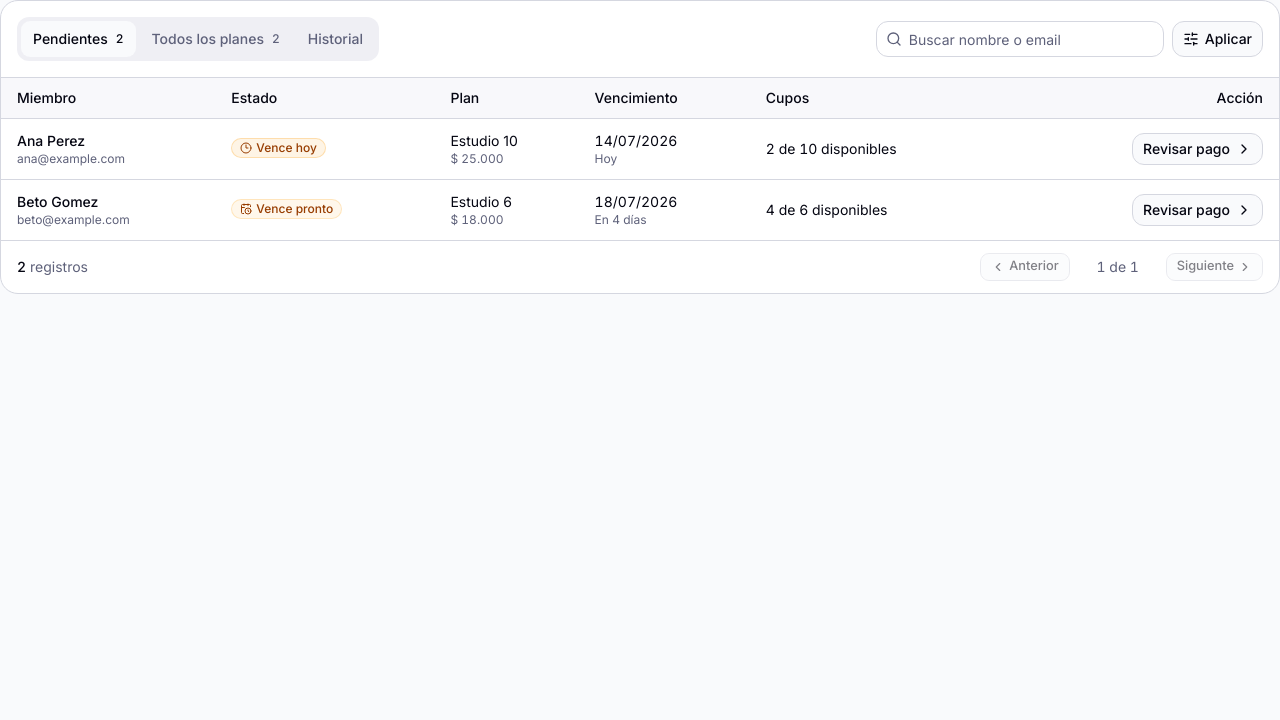
RenewalsWorkbench › mantiene una sola revision abierta
This screenshot has width=1280, height=720.
Click the button with aria-label "Revisar pago de Ana Perez".
click(1198, 148)  # box [1132,132,1263,164]
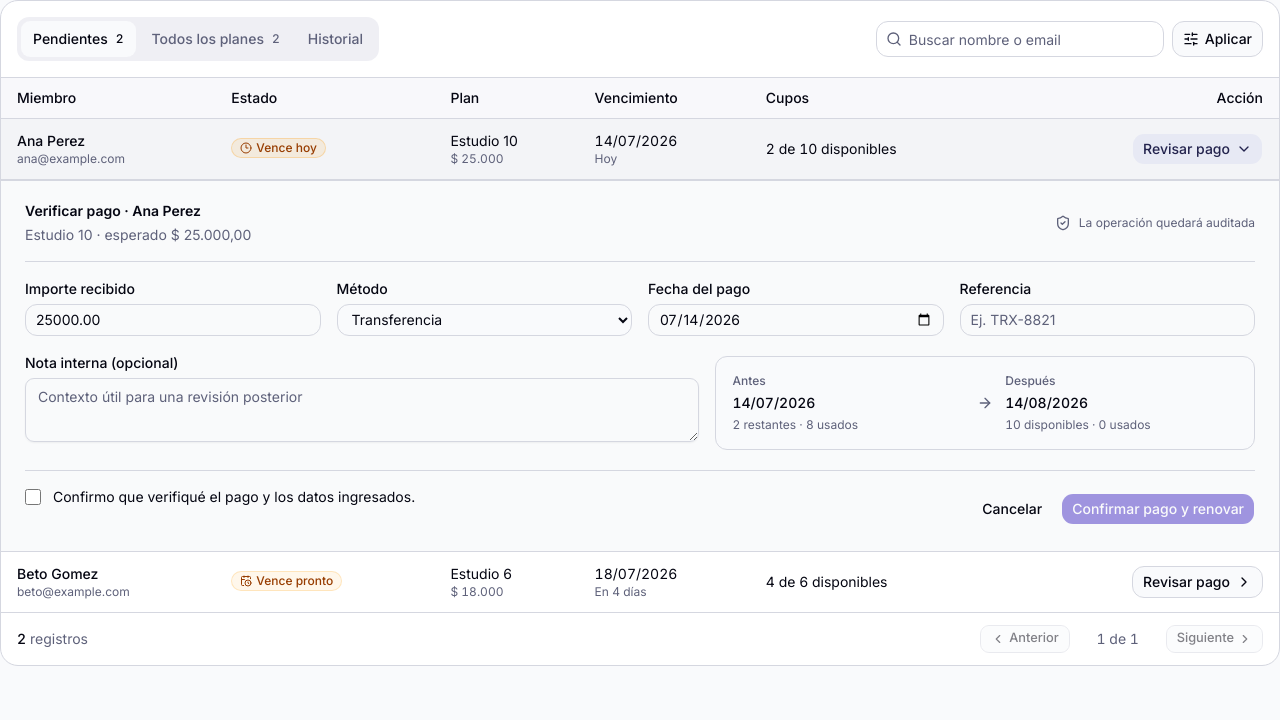
Check: the element named "Verificar pago de Ana Perez" is shown, box [1,180,1279,550]
Click the button with aria-label "Revisar pago de Beto Gomez".
click(1198, 582)  # box [1132,566,1263,598]
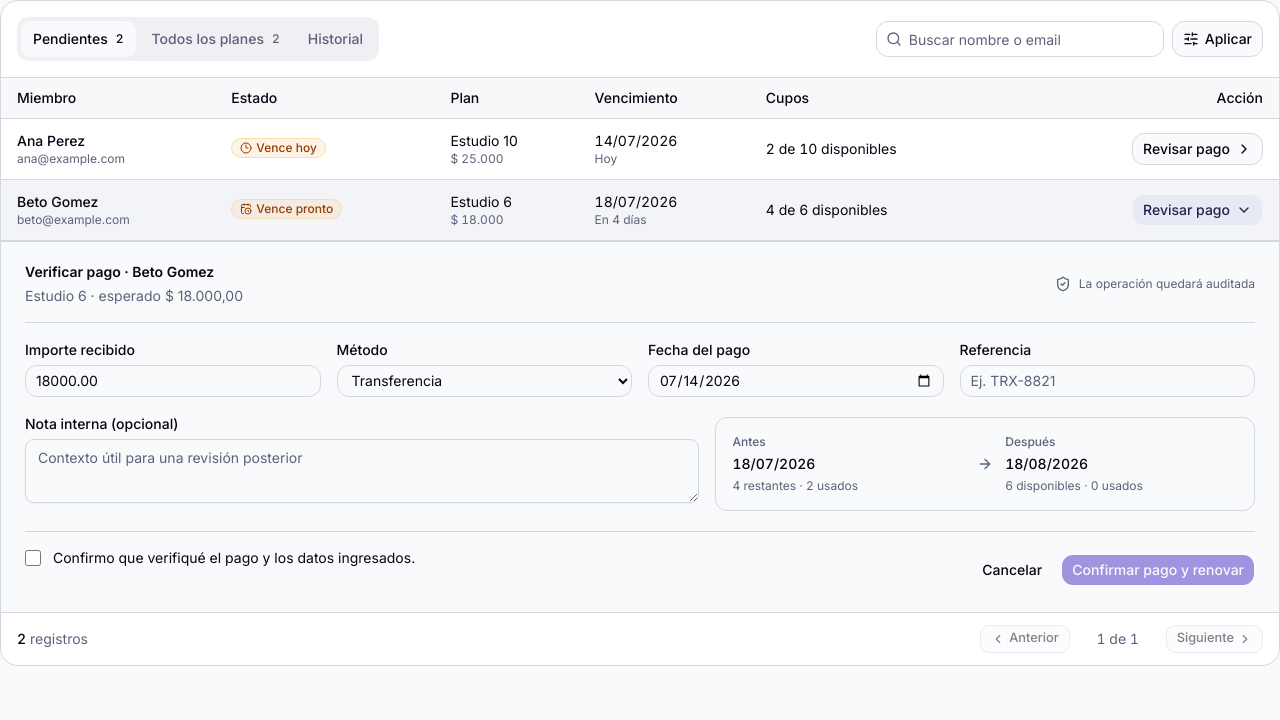
Check: the element named "Verificar pago de Beto Gomez" is shown, box [1,240,1279,612]
